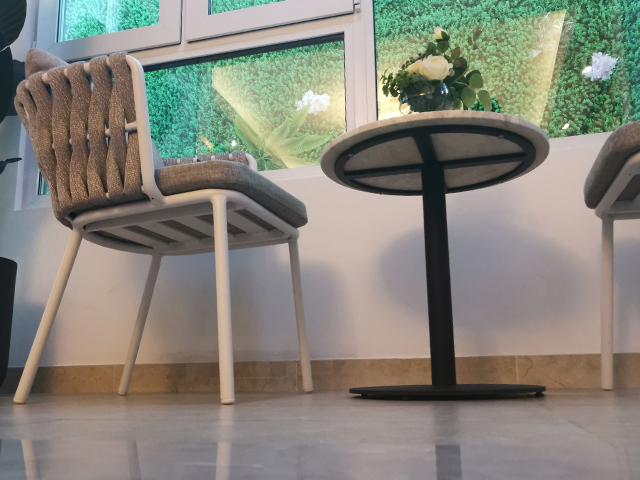stool: (11, 45, 317, 407), (580, 118, 640, 392)
table: (317, 109, 551, 403)
